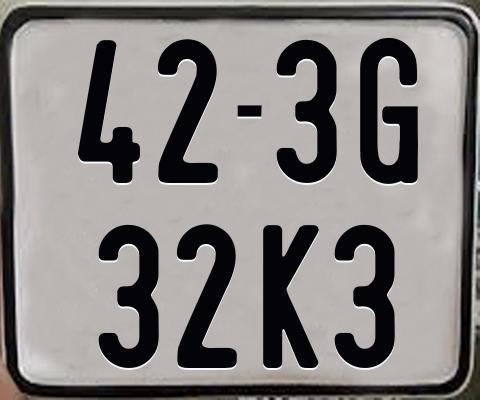2: (175, 224, 239, 368), (156, 38, 218, 185)
3: (99, 224, 165, 372), (274, 40, 340, 185), (334, 225, 397, 368)
4: (76, 38, 141, 186)
G: (357, 38, 416, 184)
K: (262, 225, 320, 371)
